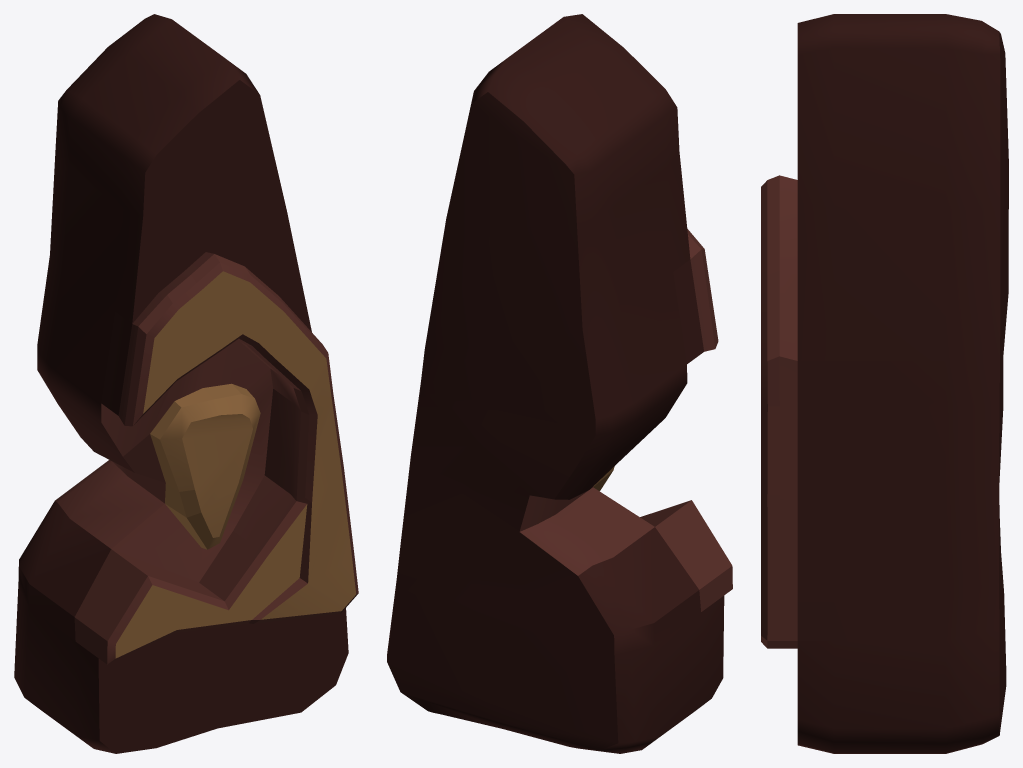
File: SM_pietra_2.fbx
The picture shows the model from 3 angles, left to right: view 1: azimuth 30°, elevation 25°; view 2: azimuth 150°, elevation 25°; view 3: azimuth 270°, elevation 25°; orthographic projection. The views are drawn at different scales.
Parts seen in each view (by area): view 1: SM_pietra_2; view 2: SM_pietra_2; view 3: SM_pietra_2.
Boxes of the visible parts, <box> form: SM_pietra_2: <box>14,14,358,753</box>; SM_pietra_2: <box>387,14,732,753</box>; SM_pietra_2: <box>761,14,1008,753</box>.
Bounding box in the file's own units: 649 × 1579 × 502.
